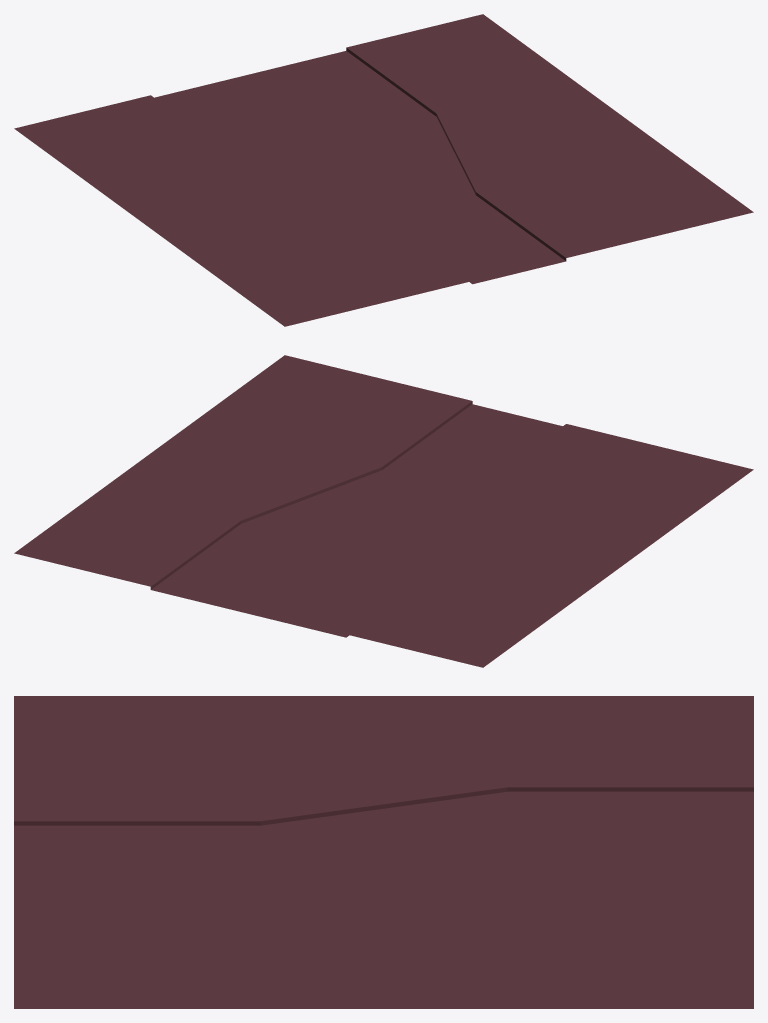
The model's file is tiles-nb-tile-road-to-mainroad-nb.glb.
3 renders of one model, top to bottom at view 1: azimuth 30°, elevation 25°; view 2: azimuth 150°, elevation 25°; view 3: azimuth 270°, elevation 25°, orthographic. The views are drawn at different scales.
Visible parts, largest first — view 1: tile-road-to-mainroad-nb; view 2: tile-road-to-mainroad-nb; view 3: tile-road-to-mainroad-nb.
Part boxes in pixels (box(x1,y1,x2,y2)): tile-road-to-mainroad-nb: box(14, 14, 753, 326); tile-road-to-mainroad-nb: box(14, 355, 753, 667); tile-road-to-mainroad-nb: box(14, 696, 753, 1008).
Size of the model in its own units: 30 by 0.2 by 30.
